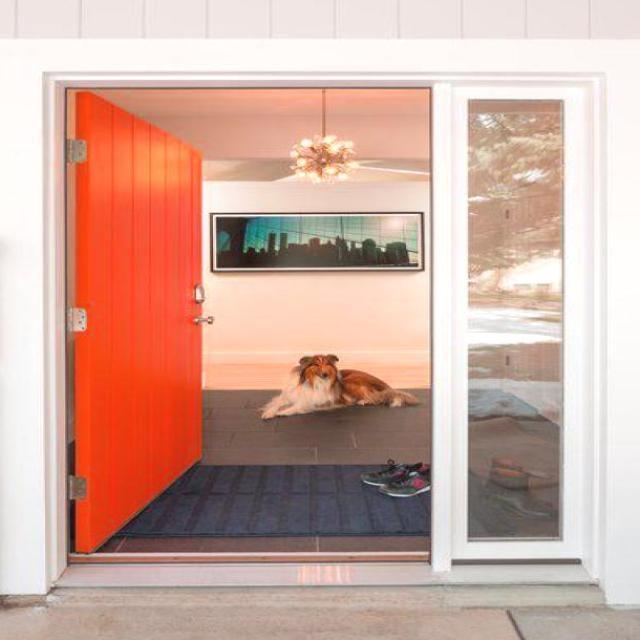door: (66, 88, 205, 554)
